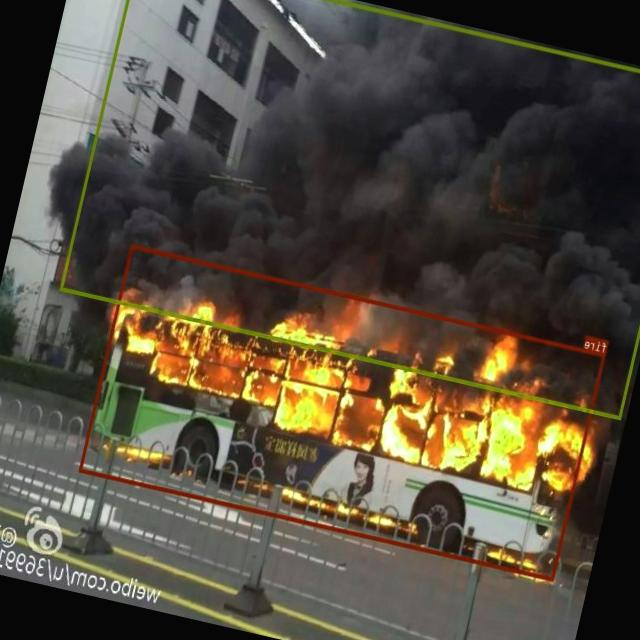fire: (79, 244, 606, 582)
smoke: (60, 0, 640, 419)
